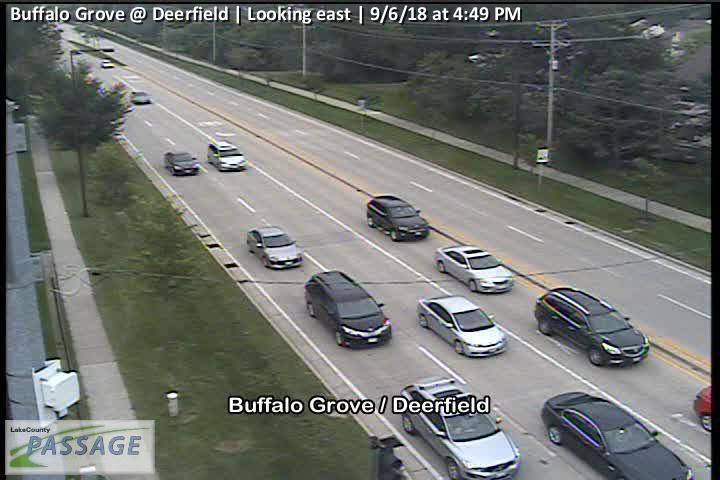SUV: (534, 287, 650, 368), (303, 270, 393, 350), (366, 196, 430, 240), (207, 142, 247, 171)
Sedan: (541, 390, 692, 480), (398, 377, 522, 480), (415, 295, 508, 358), (432, 245, 513, 294), (247, 227, 302, 270), (163, 150, 199, 175), (130, 91, 150, 104), (101, 59, 114, 68)
